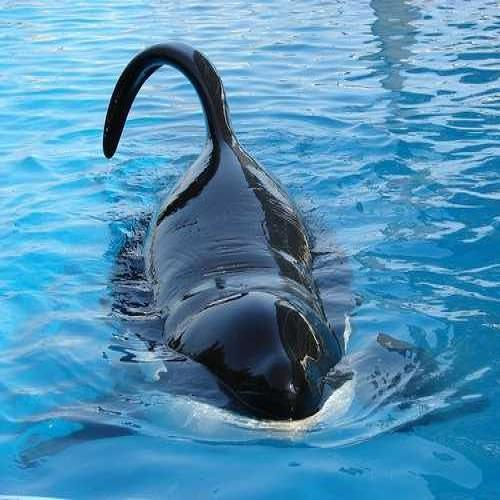killer_whale-endangered: (90, 31, 361, 438)
